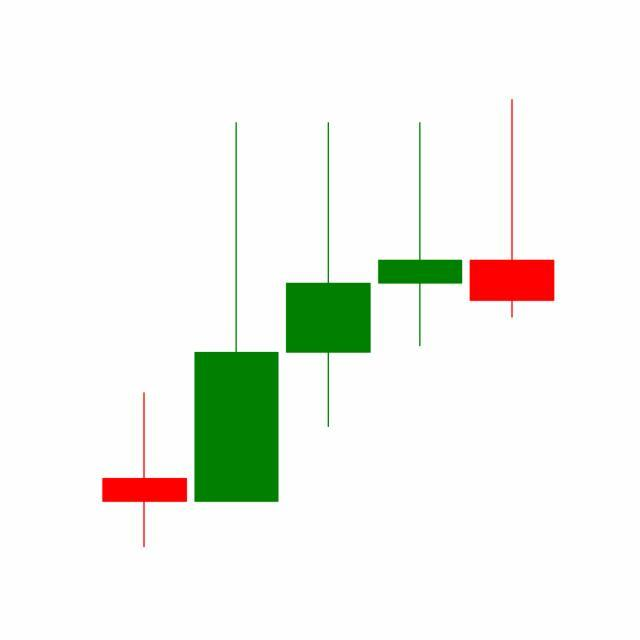Spinning Top: (374, 120, 468, 350)
